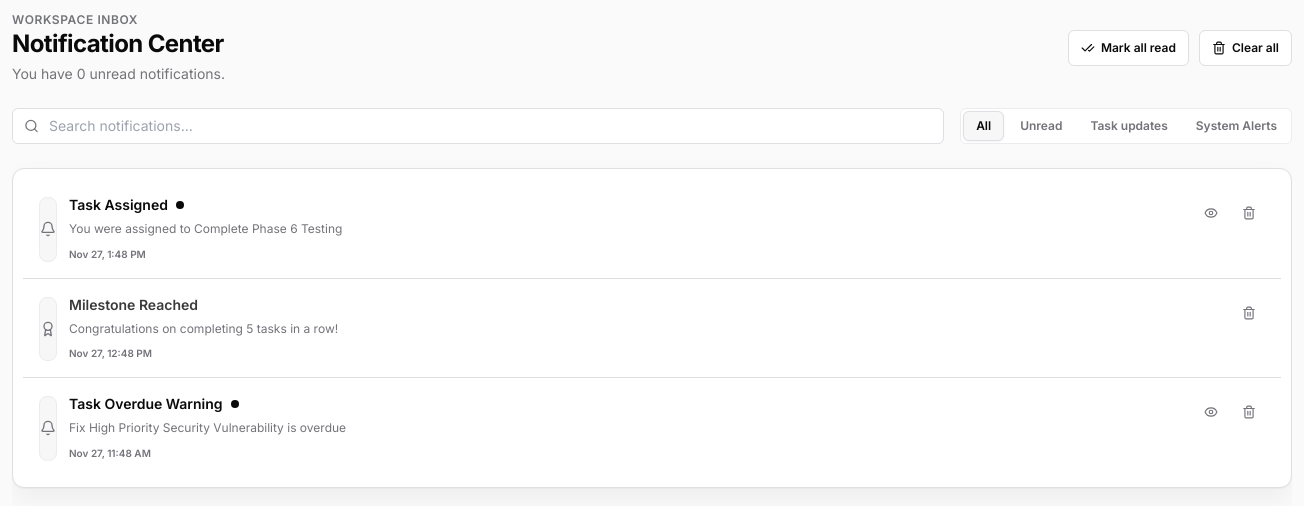
Notifications Component Testing › filters notifications by search query
This screenshot has width=1304, height=506.
expect the heading "Milestone Reached" is shown: met, box 69,294 -> 198,314
In the field labelled "Search notifications...": (478, 126) 12,108 -> 944,144, type "Milestone"
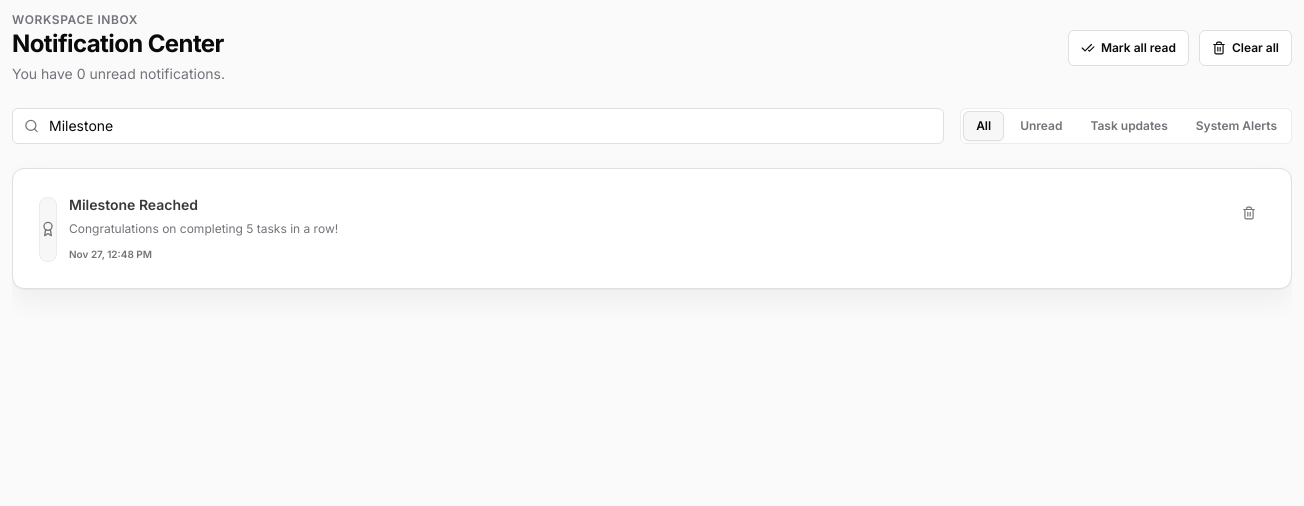
expect the heading "Milestone Reached" is shown: met, box 69,195 -> 198,215
expect the heading "Task Assigned" is gone: met
